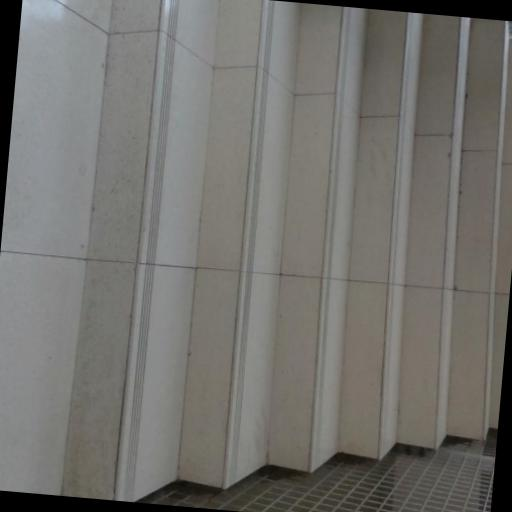stairs: (62, 0, 511, 501)
